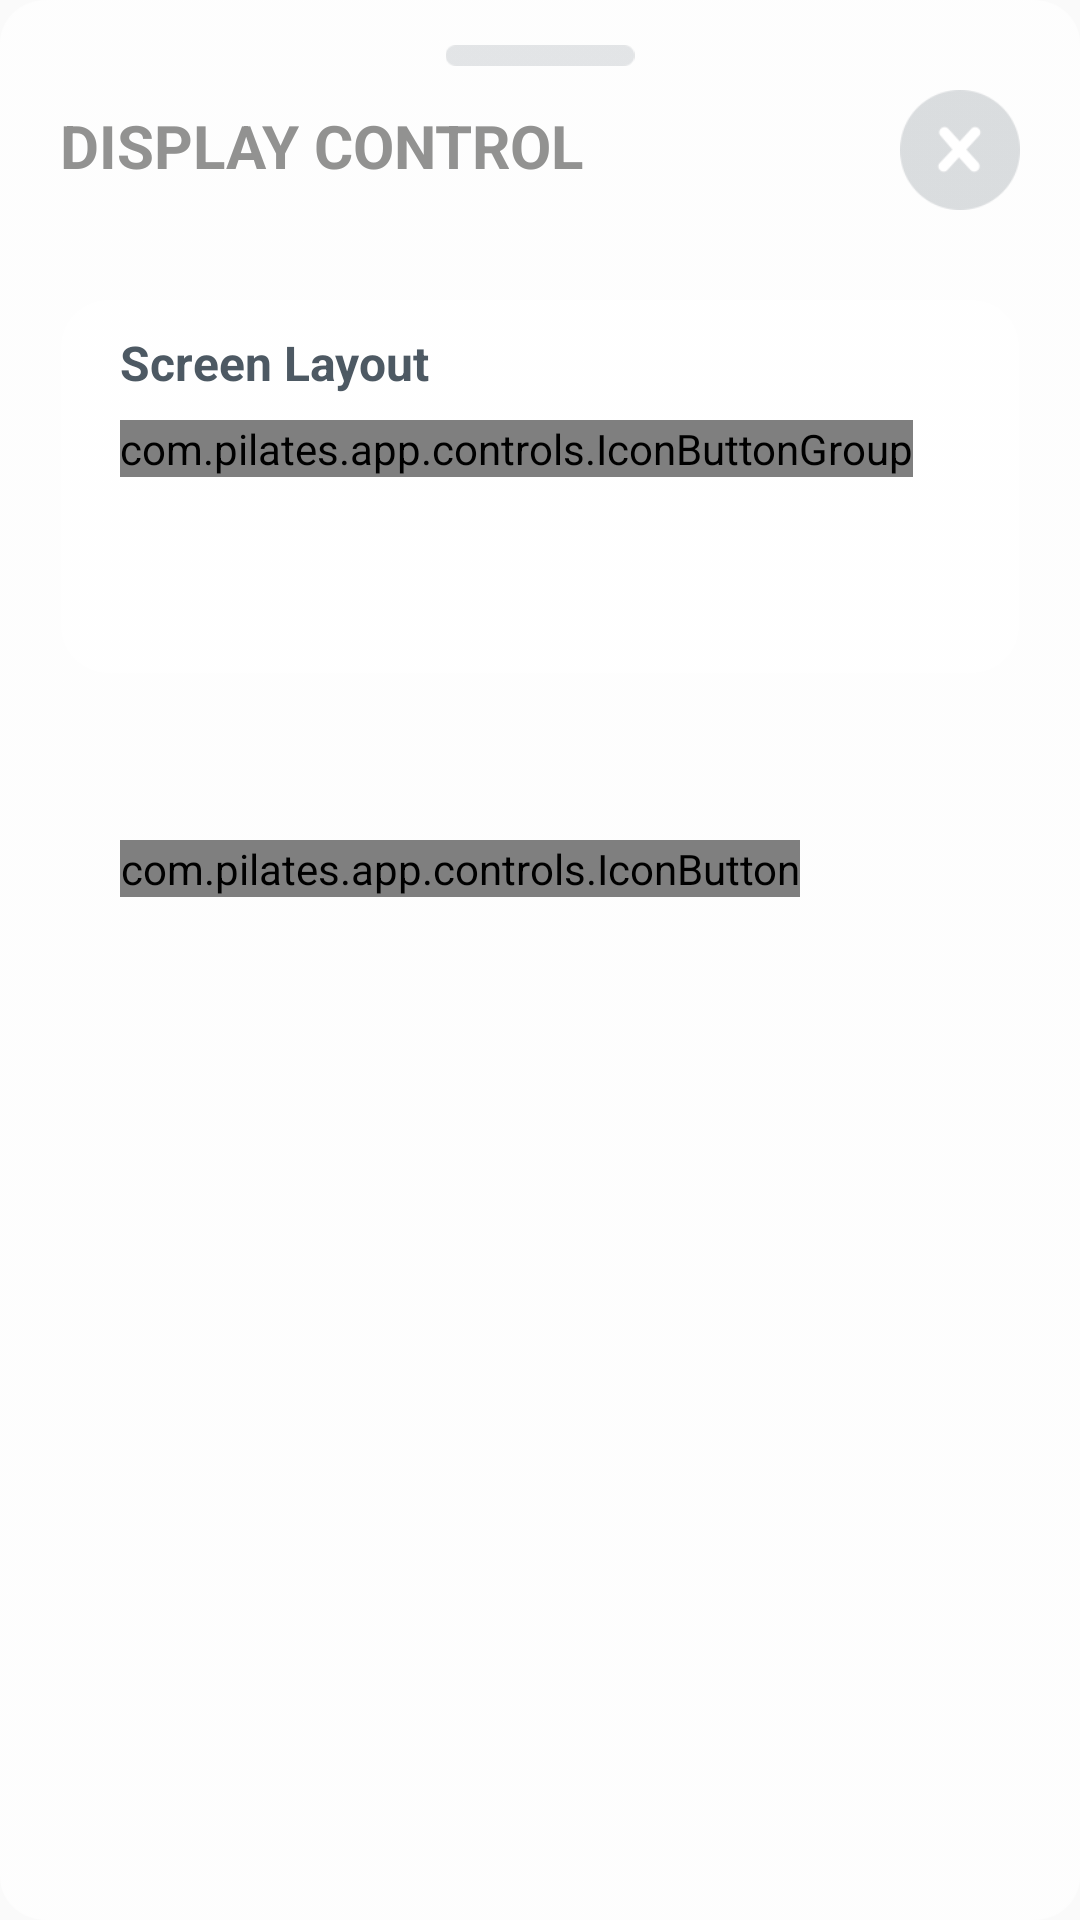

Where to tap for icons on this 1080px×1920px app screen, as point (x, y):
close: point (960, 150)
